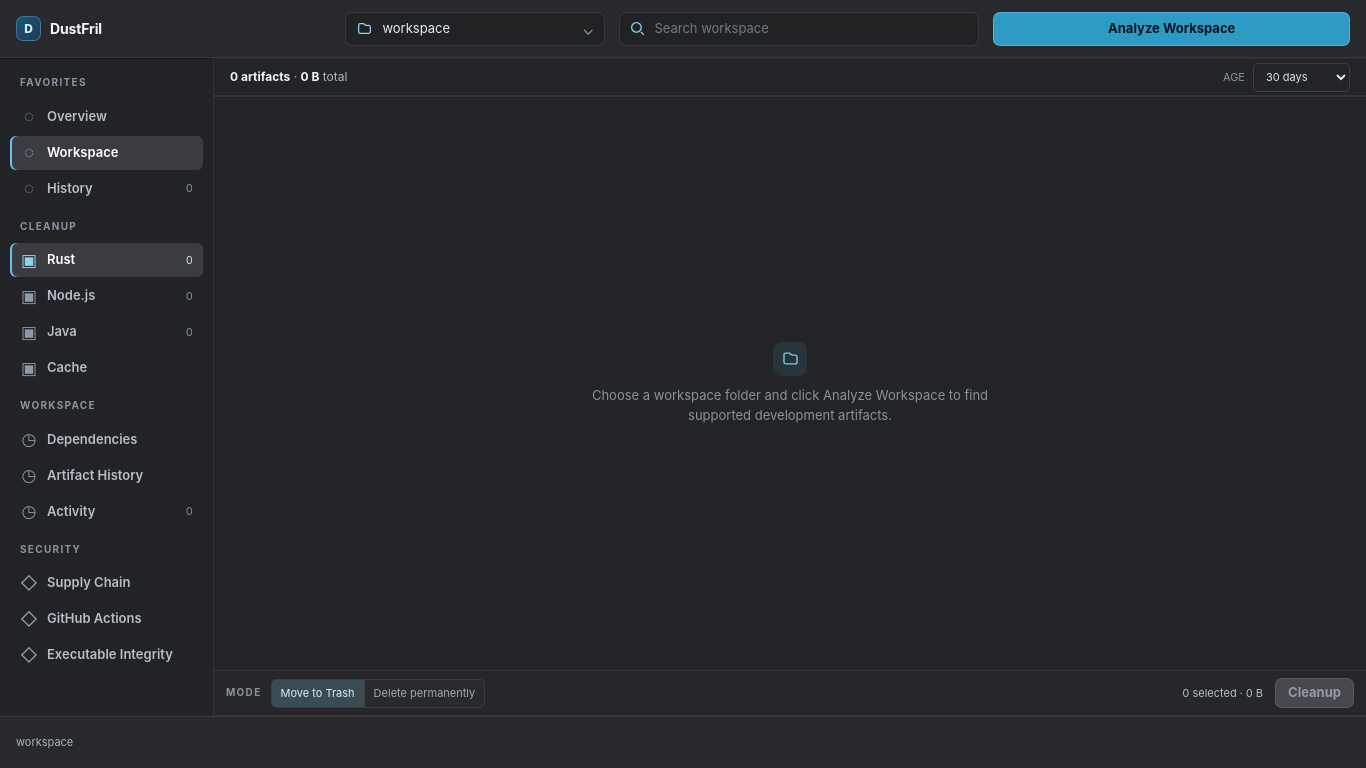
AppShell Overview navigation › refreshes volume capacity after permanent cleanup
The image size is (1366, 768).
What coordinates should you click on to do the following:
click the button "Analyze Workspace"
I would click on:
 (1172, 28)
Its box is [993,12,1350,46].
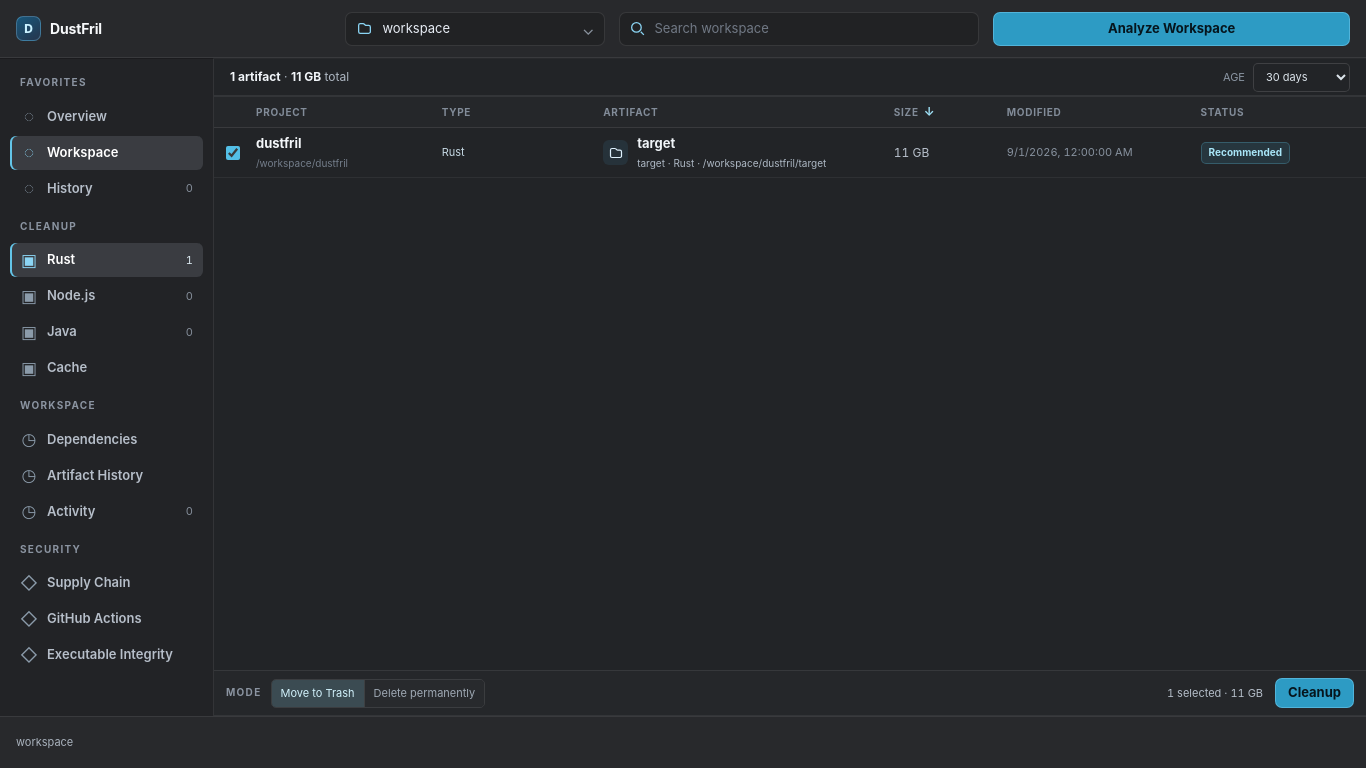
Check: the checkbox is checked, box [226,146,240,160]
What coordinates should you click on to do the following:
click the button "Delete permanently"
I would click on:
 (424, 693)
Its box is [364,680,484,706].
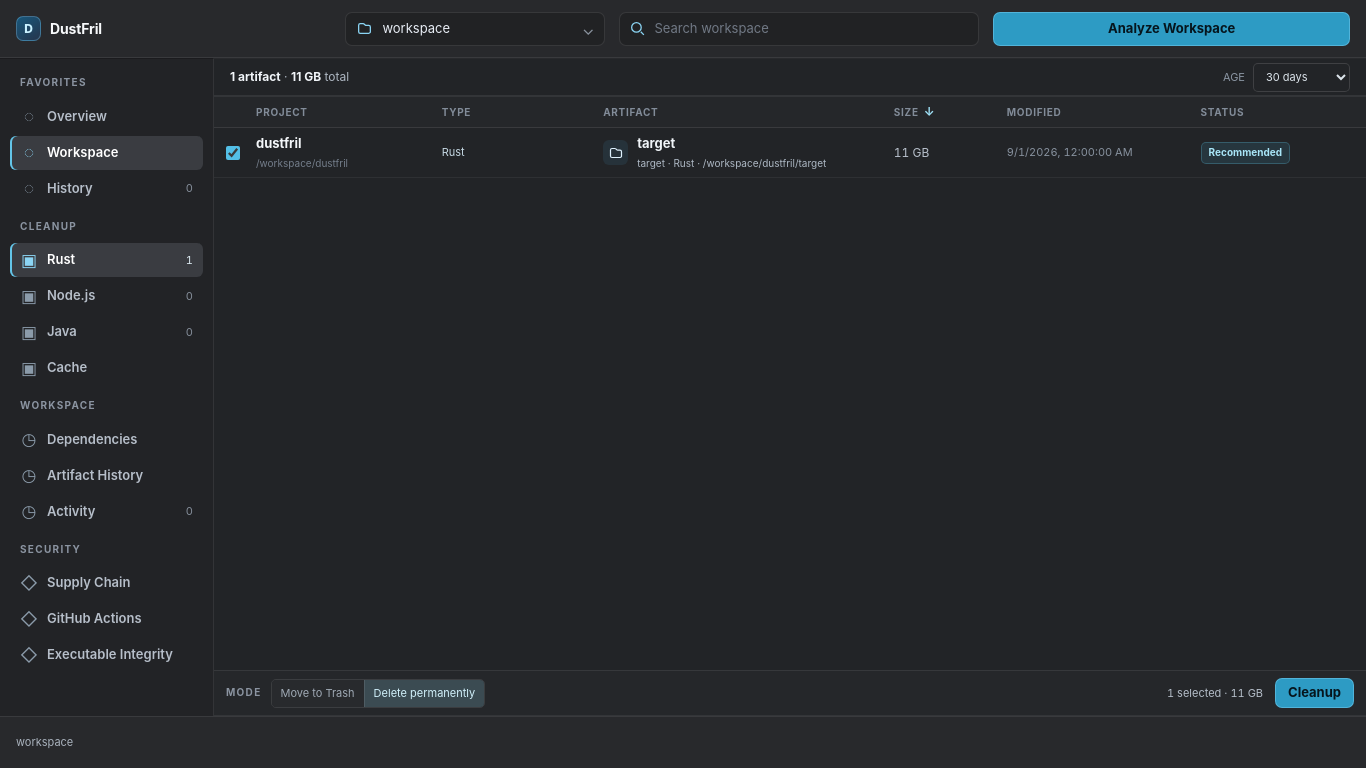
What coordinates should you click on to do the following:
click the button "Cleanup"
I would click on:
 (1314, 693)
Its box is [1275,678,1354,708].
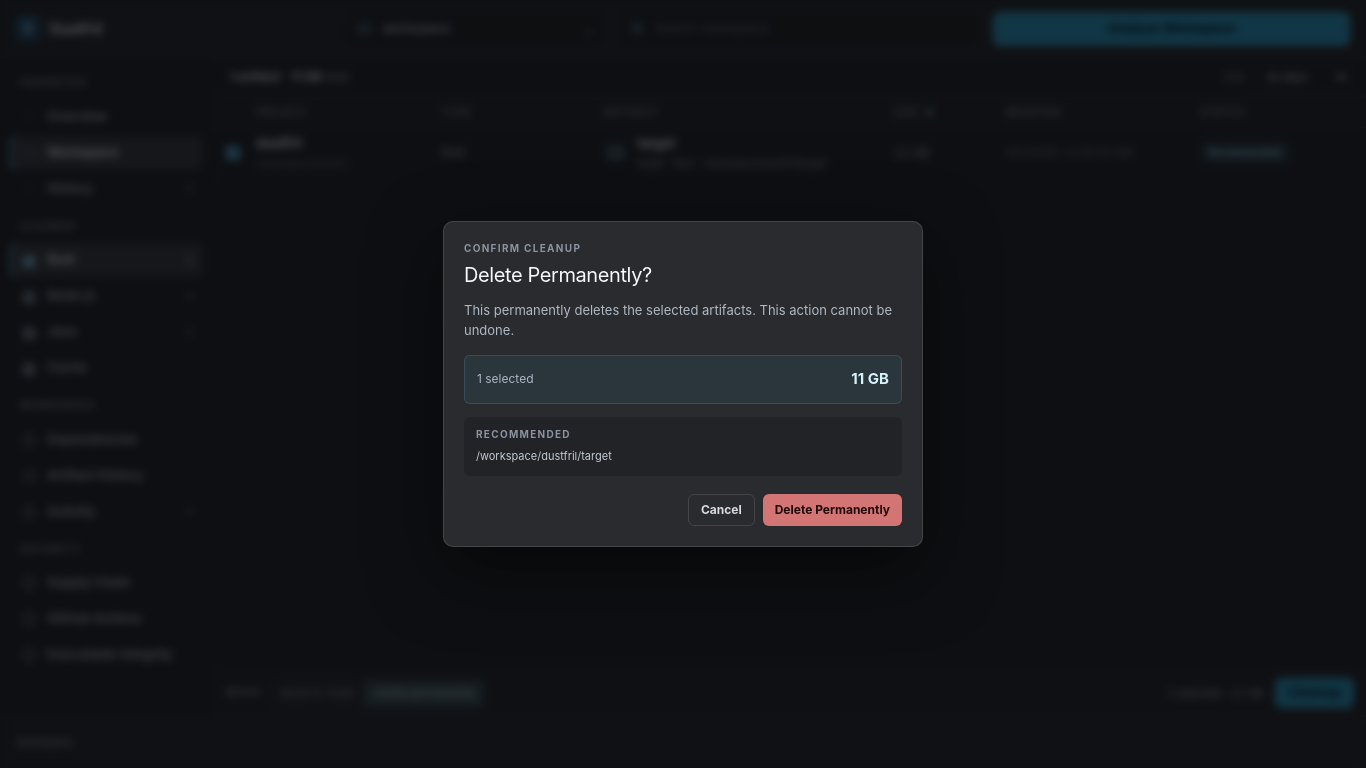
What coordinates should you click on to do the following:
click the button with class "button-confirm"
I would click on:
 (832, 510)
Its box is [763,494,902,526].
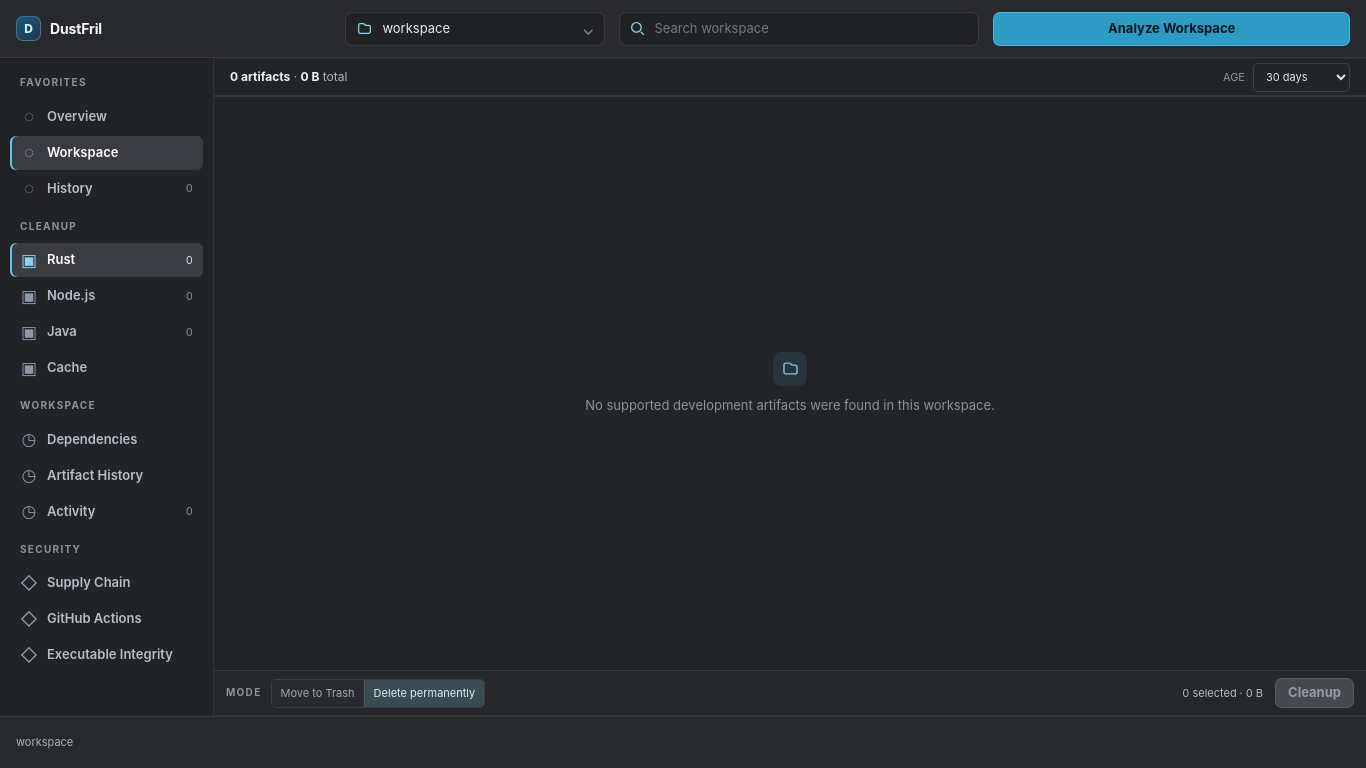
What coordinates should you click on to do the following:
click the button "◌ Overview"
I would click on:
 (106, 116)
Its box is [10,100,203,134].
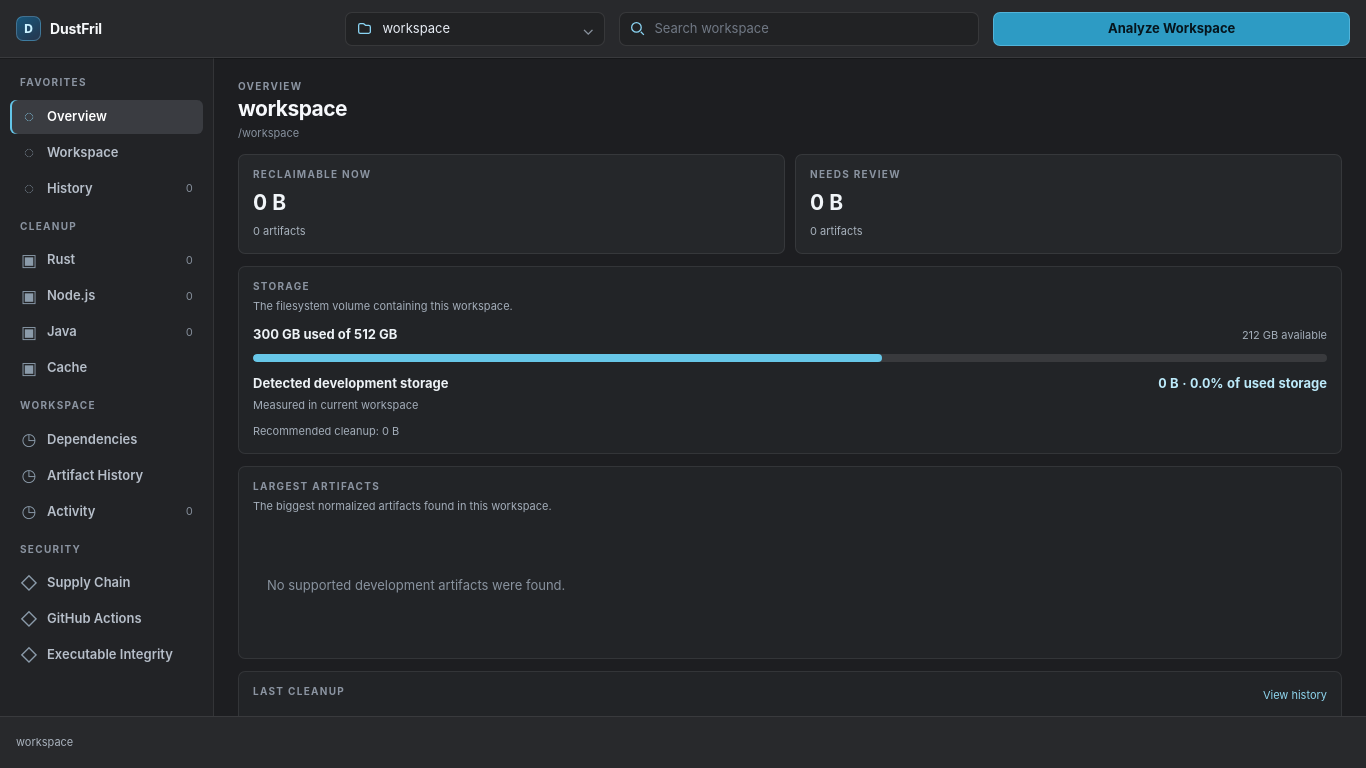
Check: the text "300 GB used of 512 GB" is shown, box [253,325,397,344]
